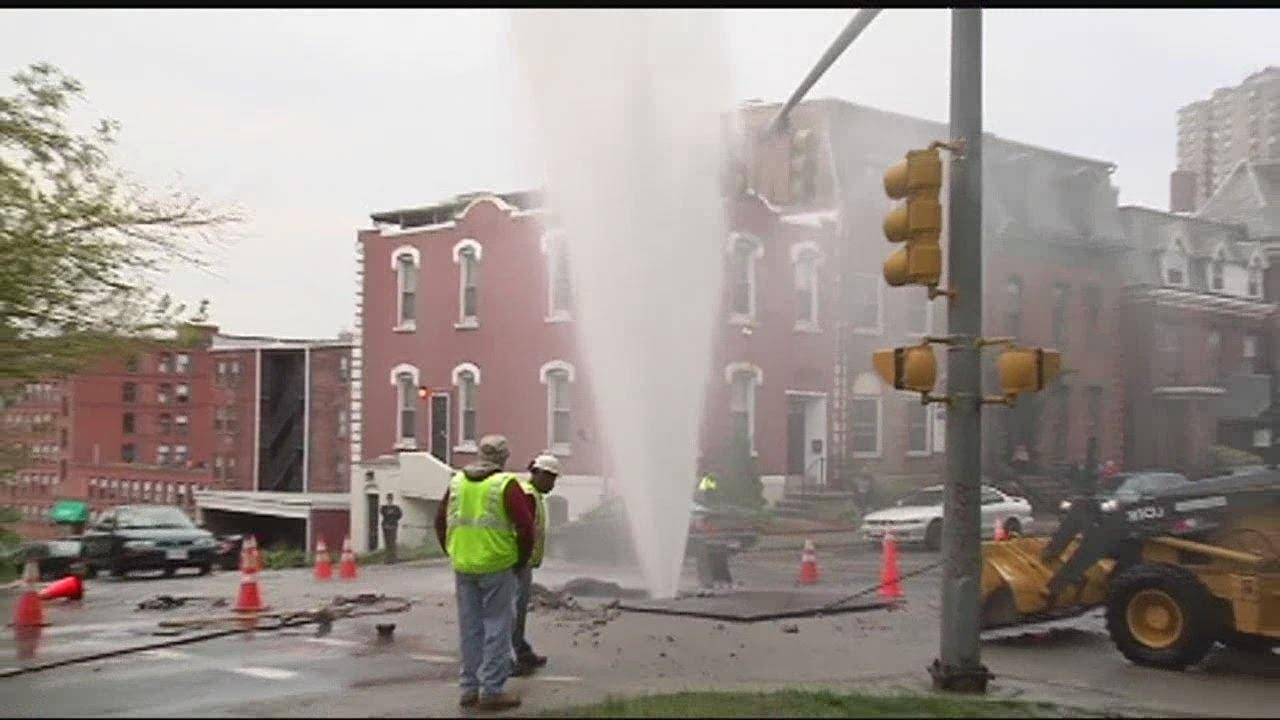pipe burst: (502, 0, 743, 611)
